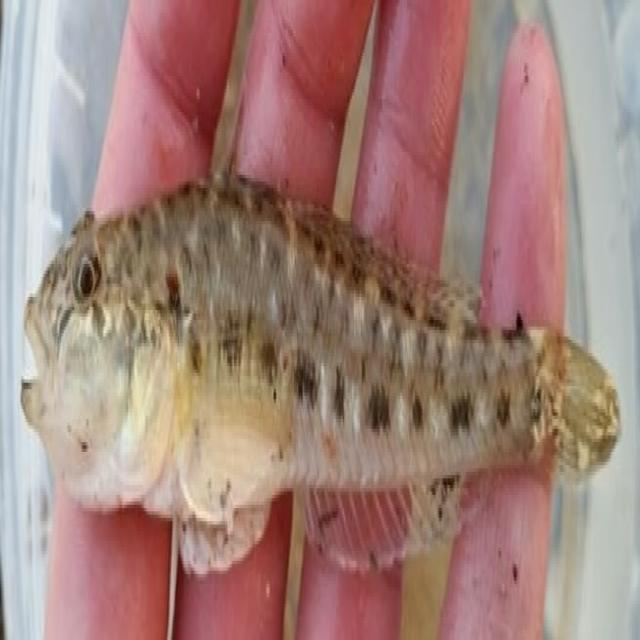Goby: (6, 33, 640, 620)
